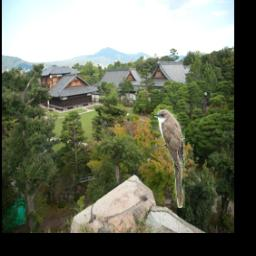Cuckoo: (154, 110, 185, 209)
